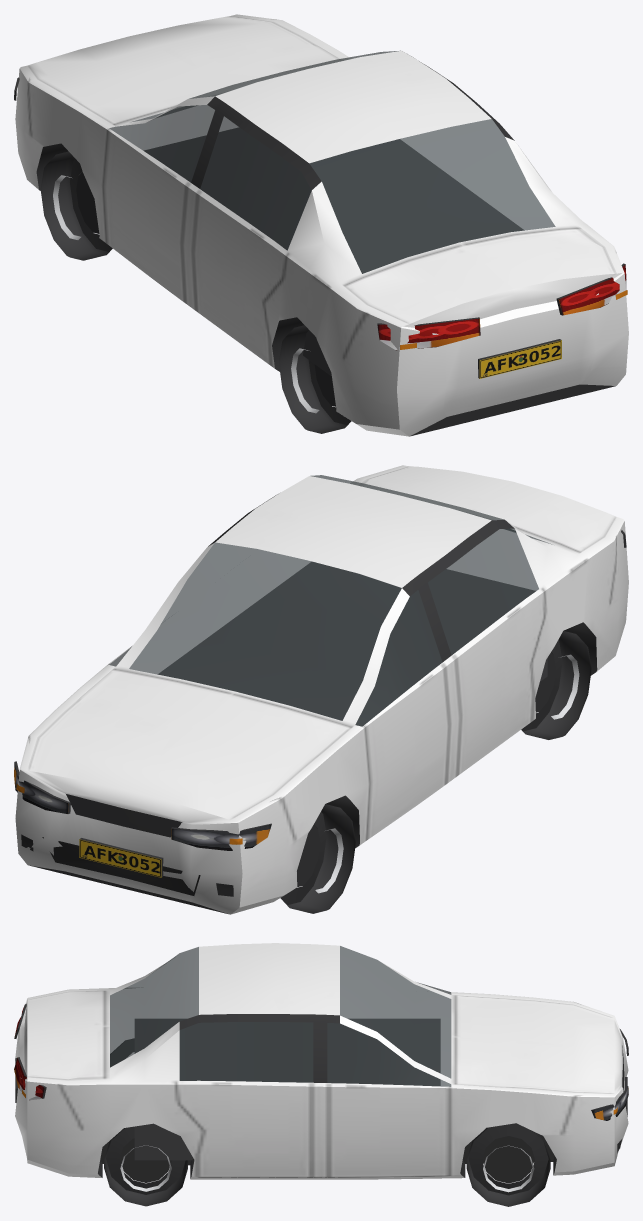
Rendered from sedan_corolla_lod1.glb.
The picture shows the model from 3 angles, top to bottom: view 1: azimuth 30°, elevation 25°; view 2: azimuth 150°, elevation 25°; view 3: azimuth 270°, elevation 25°; orthographic projection. The views are drawn at different scales.
Visible parts, largest first — view 1: body, wheel_fl_mesh, wheel_rl_mesh; view 2: body, wheel_fl_mesh, wheel_rl_mesh; view 3: body, wheel_fr_mesh, wheel_rr_mesh, wheel_rl_mesh.
Boxes of the visible parts, x1,y1,x2,y2 form: body: (14,14,628,436); wheel_fl_mesh: (40,151,112,260); wheel_rl_mesh: (278,325,351,433); body: (14,465,628,914); wheel_fl_mesh: (280,804,355,913); wheel_rl_mesh: (521,631,591,739); body: (14,943,628,1179); wheel_fr_mesh: (466,1123,550,1206); wheel_rr_mesh: (104,1126,187,1206); wheel_rl_mesh: (110,1038,134,1067).
Bounding box in the file's own units: 1.7 × 1.46 × 4.41.
10 materials, 5 textured.
